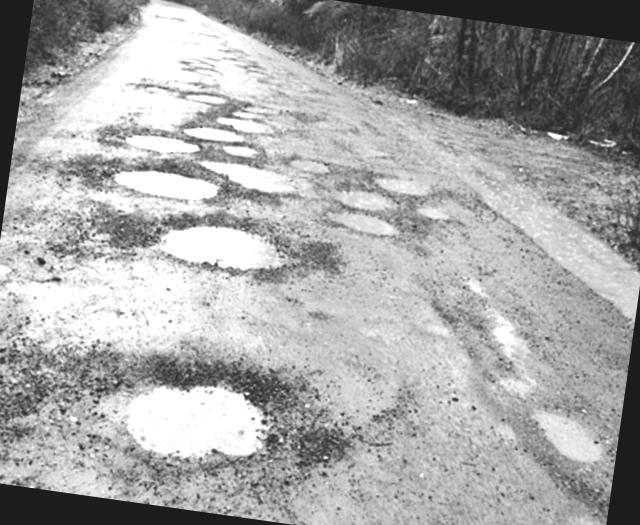Pothole: (92, 353, 300, 492), (131, 202, 294, 290), (106, 159, 224, 214), (186, 150, 298, 204), (315, 203, 402, 245), (114, 122, 200, 164), (124, 76, 223, 112), (188, 104, 280, 138), (369, 164, 432, 204), (328, 180, 399, 214), (296, 112, 362, 144), (333, 133, 383, 167), (412, 196, 456, 231), (190, 128, 246, 151)
